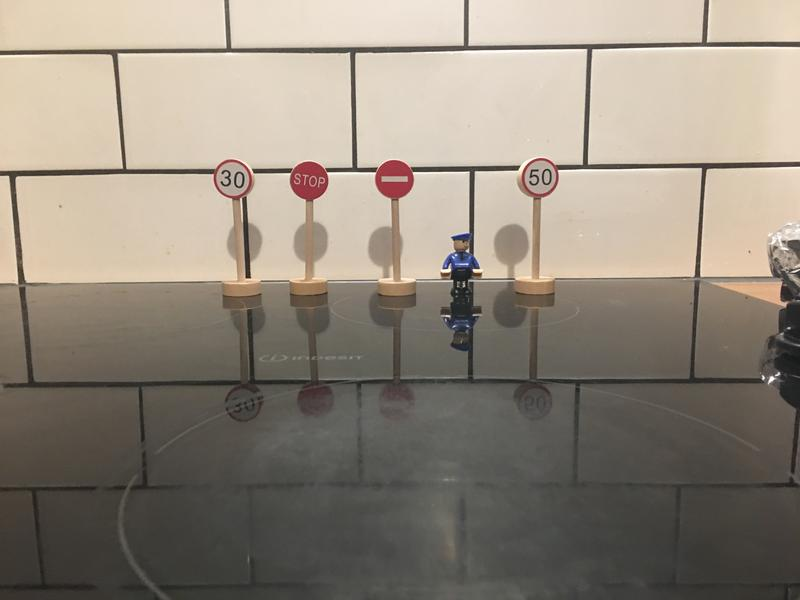Traffic_Sign_30: (212, 159, 253, 199)
Traffic_Sign_50: (522, 158, 558, 198)
Traffic_Sign_No_Entry: (375, 159, 415, 200)
Traffic_Sign_Stop: (289, 161, 328, 200)
